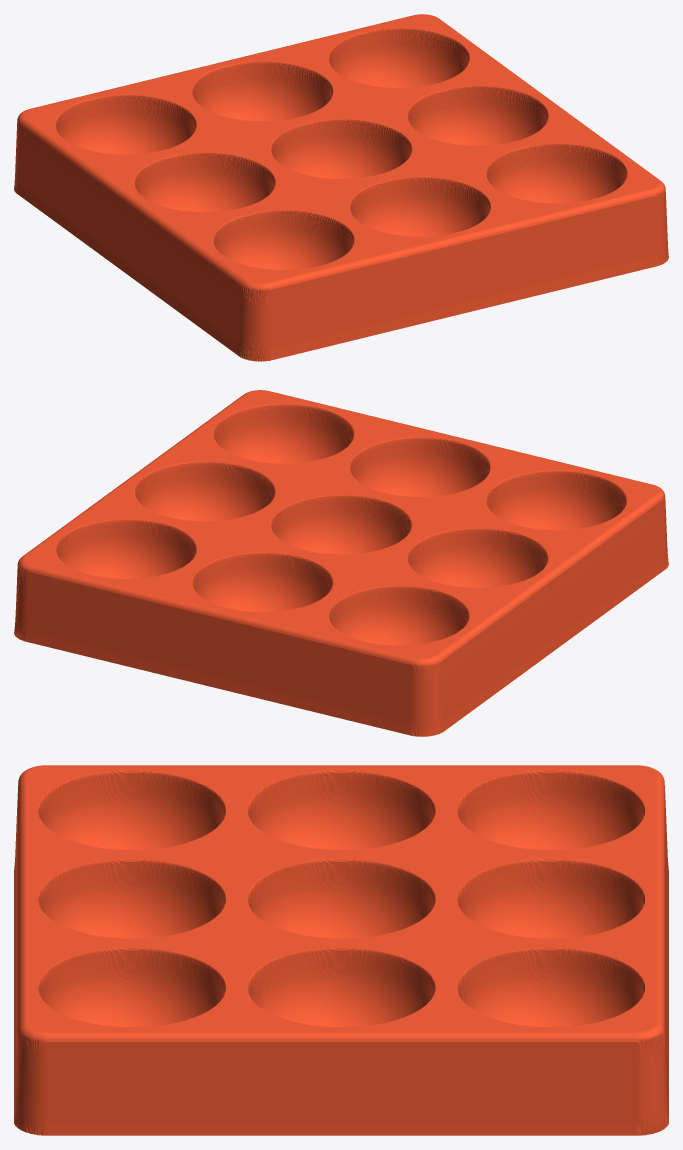
File: mold.glb
3 renders of one model, top to bottom at view 1: azimuth 30°, elevation 25°; view 2: azimuth 150°, elevation 25°; view 3: azimuth 270°, elevation 25°, orthographic. The views are drawn at different scales.
Parts seen in each view (by area): view 1: geometry_0; view 2: geometry_0; view 3: geometry_0.
Part boxes in pixels (box(x1,y1,x2,y2)): geometry_0: box(14, 14, 668, 361); geometry_0: box(14, 390, 668, 736); geometry_0: box(14, 765, 668, 1135).
Bounding box in the file's own units: 0.1804 × 0.0299 × 0.1804.
